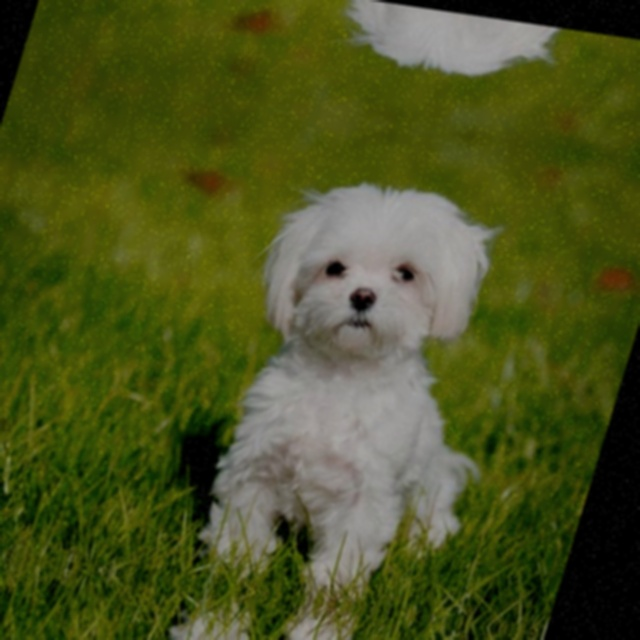dog: (201, 146, 549, 403), (290, 0, 596, 111)
